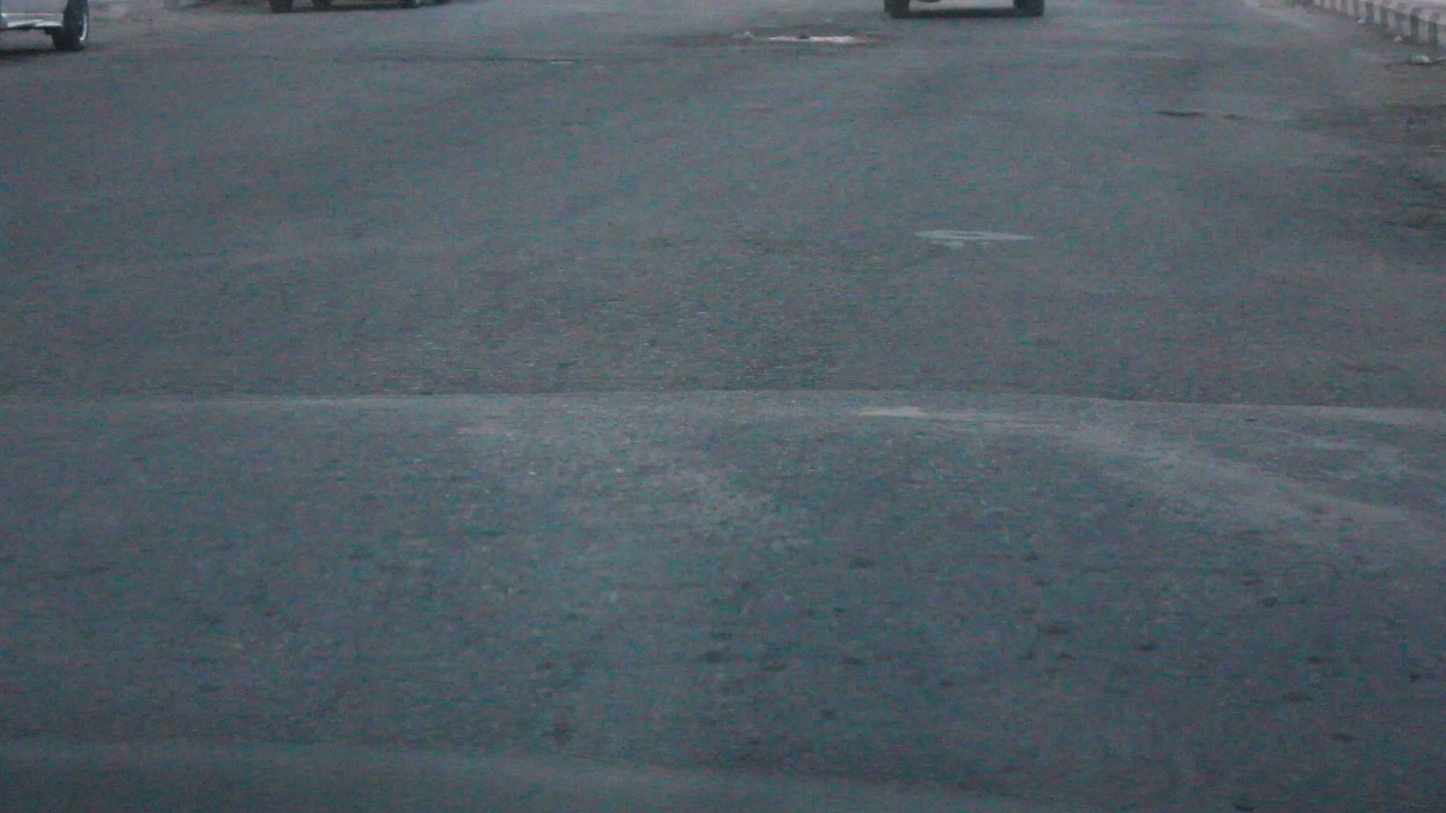Bump: (0, 414, 1445, 749)
